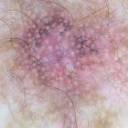Actinic: (19, 15, 96, 89)
